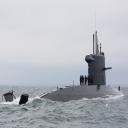submarine: (6, 31, 128, 105)
